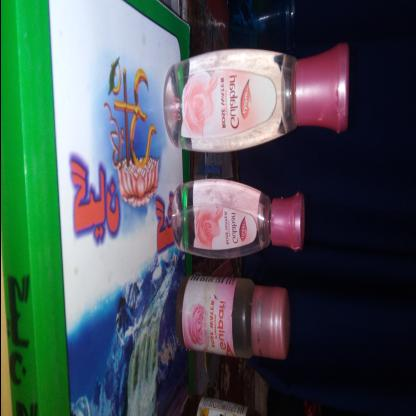bottle: (161, 42, 351, 155), (168, 177, 306, 265), (174, 273, 290, 362)
